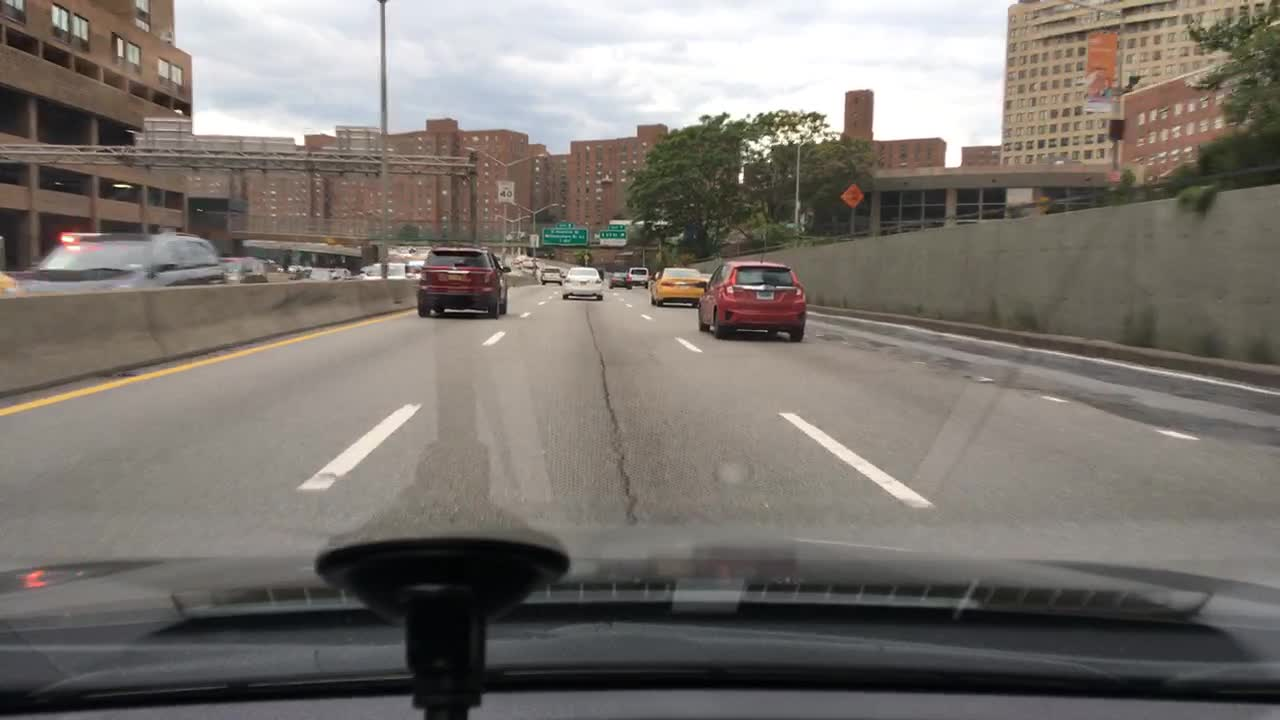car: (3, 230, 226, 297), (695, 259, 808, 343), (416, 247, 511, 320), (647, 268, 707, 309), (560, 267, 605, 302), (219, 257, 269, 284), (361, 260, 408, 280), (607, 267, 632, 291), (537, 267, 565, 286), (629, 263, 652, 286), (285, 262, 314, 280), (326, 265, 351, 280), (405, 260, 423, 278), (521, 255, 540, 272), (510, 252, 527, 268), (492, 254, 508, 268), (702, 268, 718, 281)
traffic sign: (142, 113, 192, 147), (332, 123, 381, 154), (539, 228, 589, 247), (837, 181, 867, 209), (595, 228, 629, 247), (494, 178, 516, 202), (603, 218, 626, 230), (553, 218, 578, 228)
